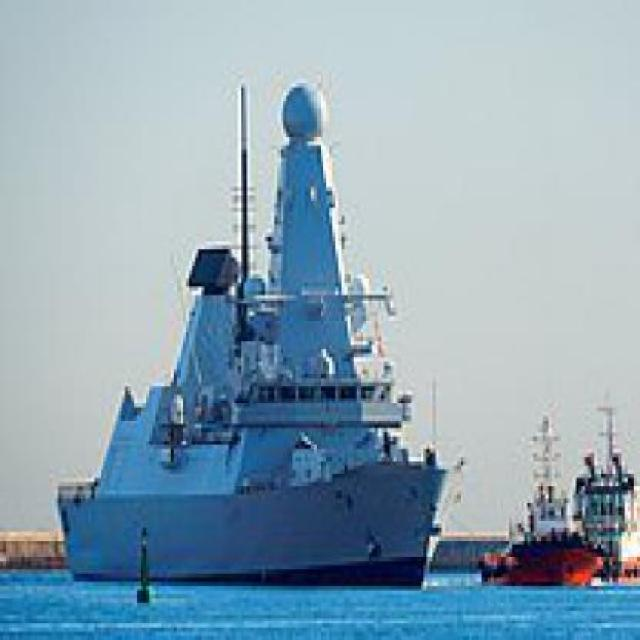warship2: (47, 46, 464, 591)
